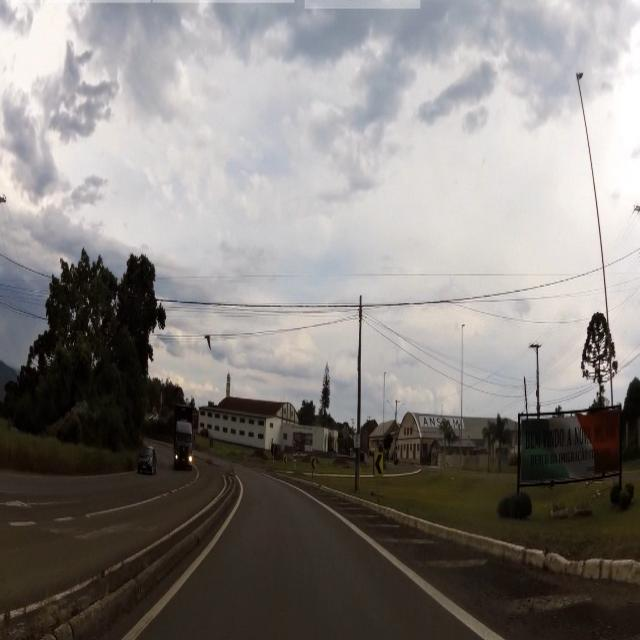Del: (374, 452, 385, 478)
